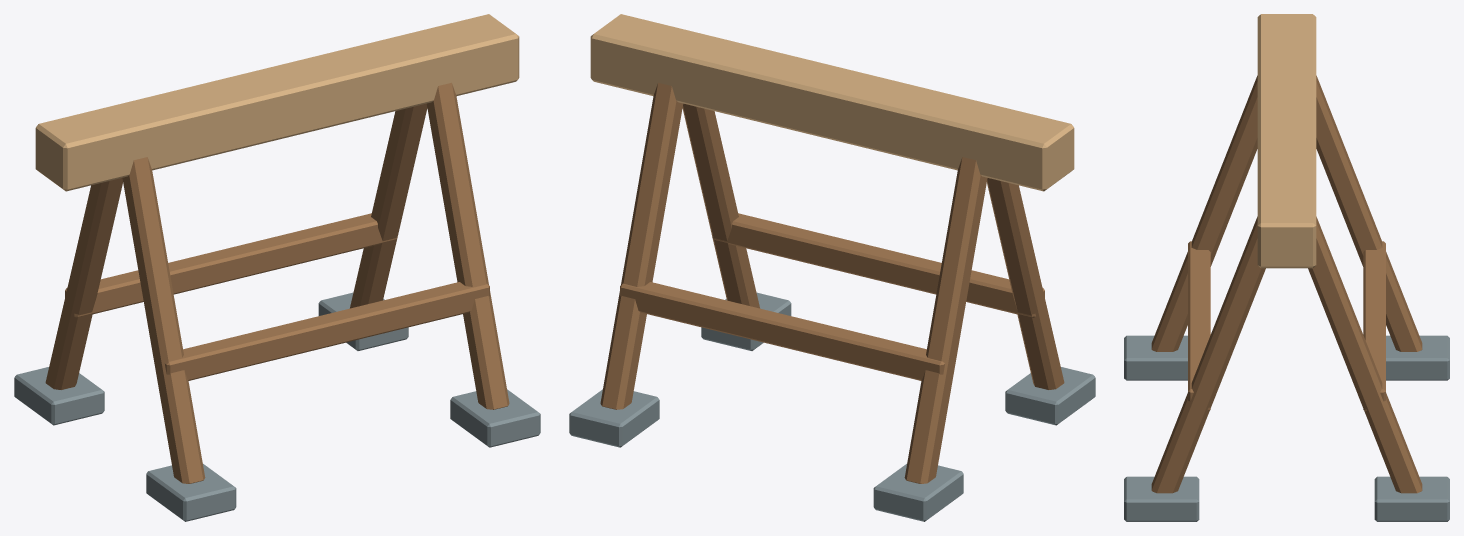
3 renders of one model, left to right at view 1: azimuth 30°, elevation 25°; view 2: azimuth 150°, elevation 25°; view 3: azimuth 270°, elevation 25°, orthographic. The views are drawn at different scales.
Parts seen in each view (by area): view 1: carpentry-sawhorse-01; view 2: carpentry-sawhorse-01; view 3: carpentry-sawhorse-01.
Boxes of the visible parts, x1,y1,x2,y2 form: carpentry-sawhorse-01: [14, 14, 540, 521]; carpentry-sawhorse-01: [569, 14, 1095, 521]; carpentry-sawhorse-01: [1124, 14, 1449, 521].
Bounding box in the file's own units: 1.2 × 0.85 × 0.78.
